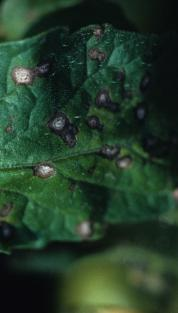Tomato Septoria leaf spot: (0, 0, 178, 264)
